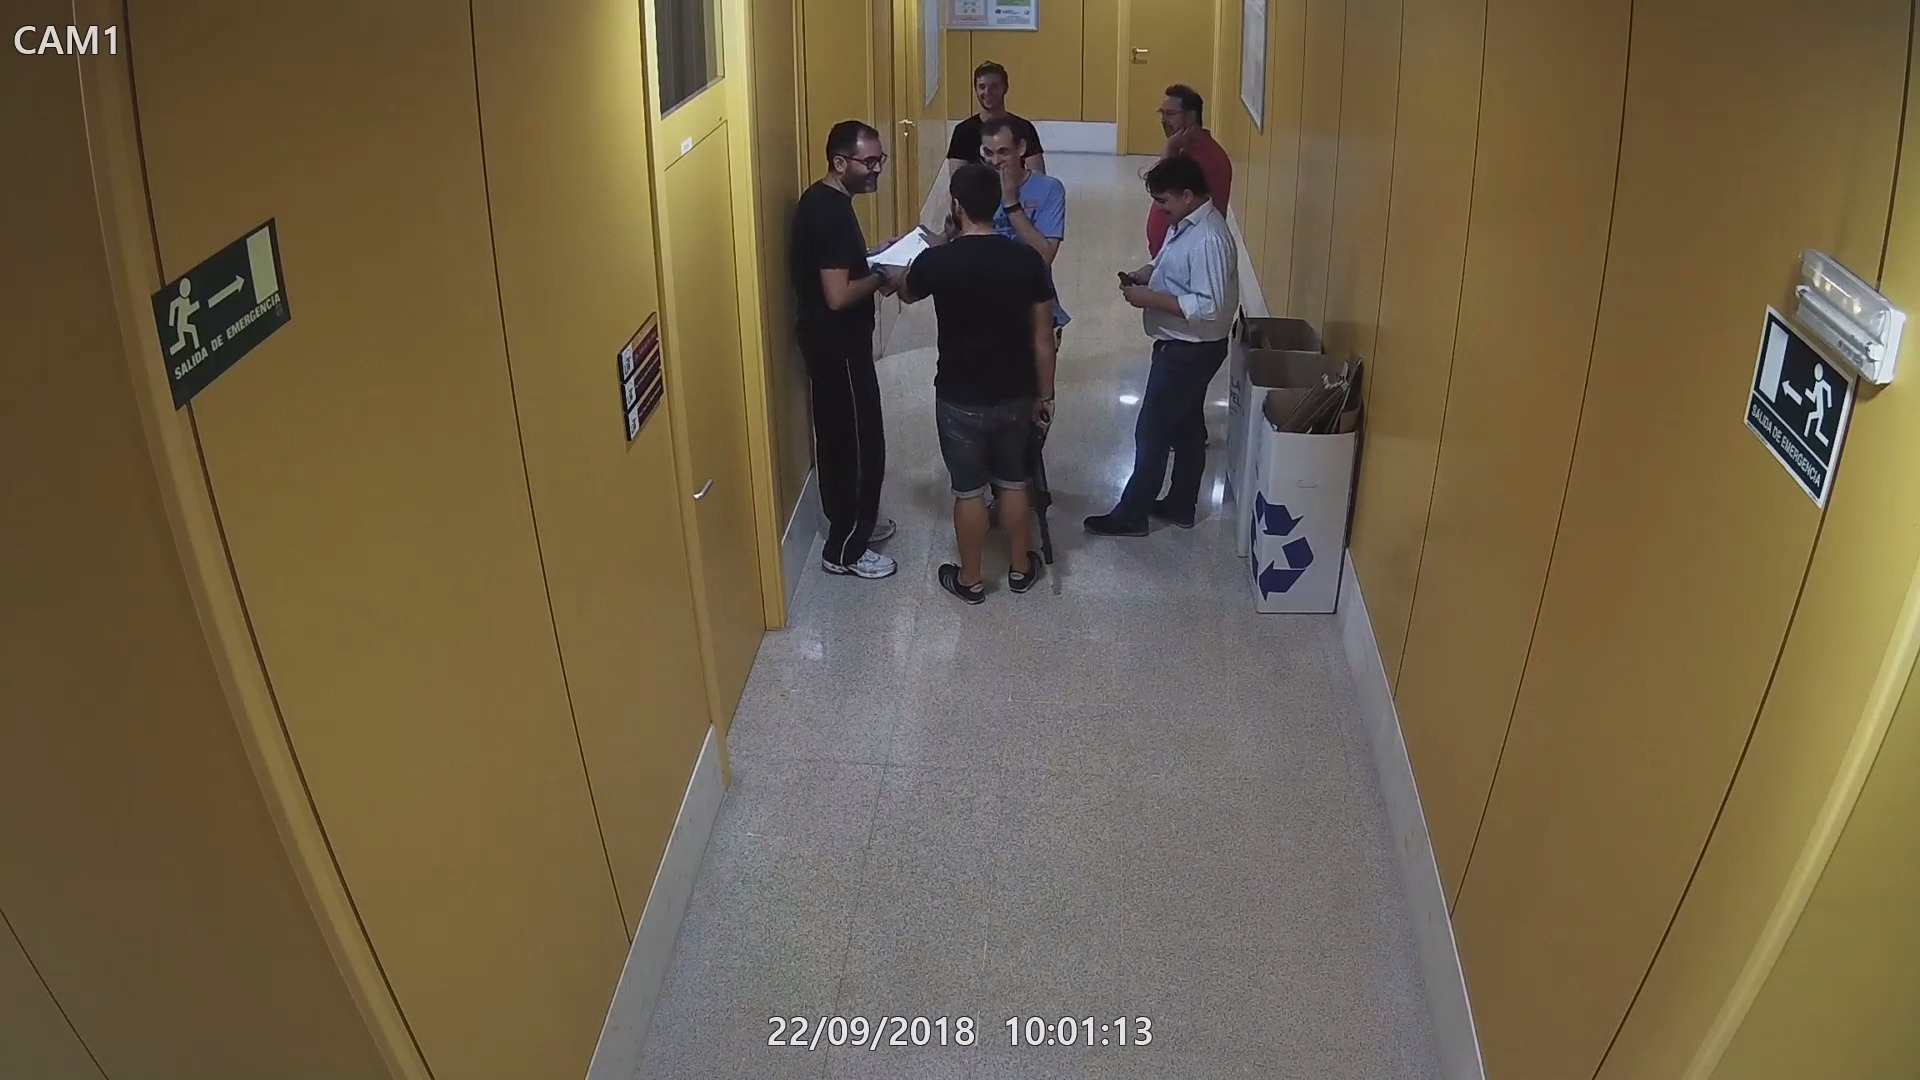Handgun: (1118, 266, 1153, 298)
Short_rifle: (1031, 400, 1060, 568)
